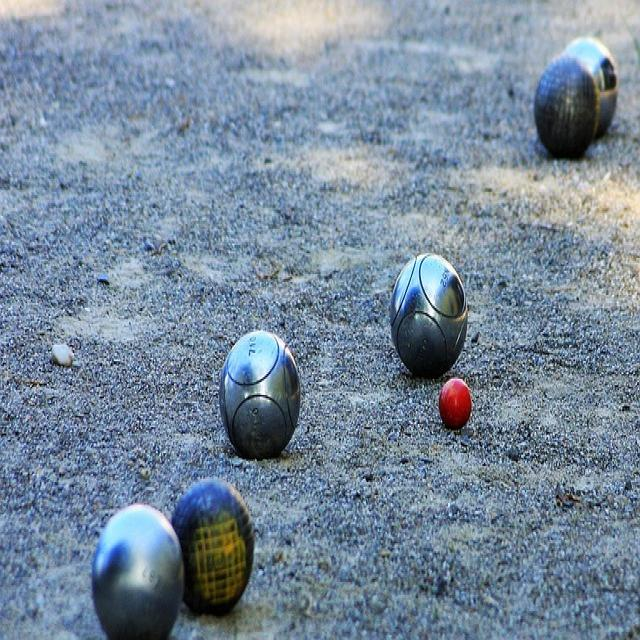hatball: (434, 375, 484, 443)
petanque: (80, 496, 194, 638), (209, 329, 306, 472), (167, 476, 260, 625), (383, 247, 473, 388), (528, 48, 610, 174), (562, 29, 624, 146)
